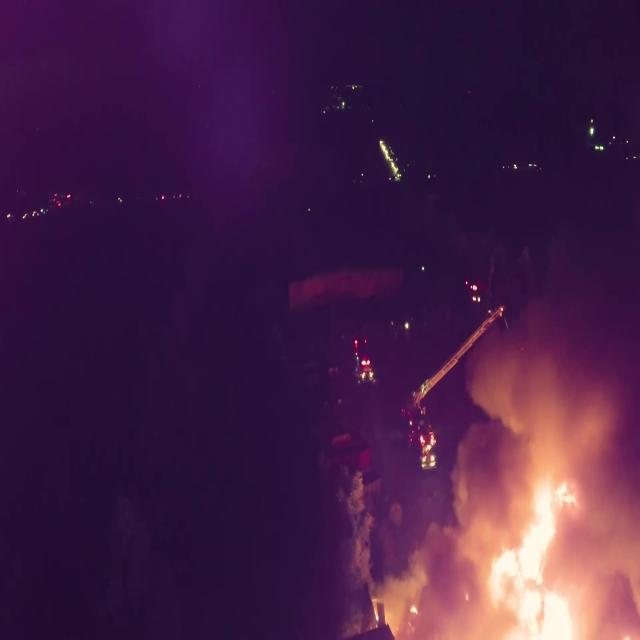Fire: (474, 446, 591, 640), (367, 587, 424, 640)
Smoke: (366, 184, 640, 640)
